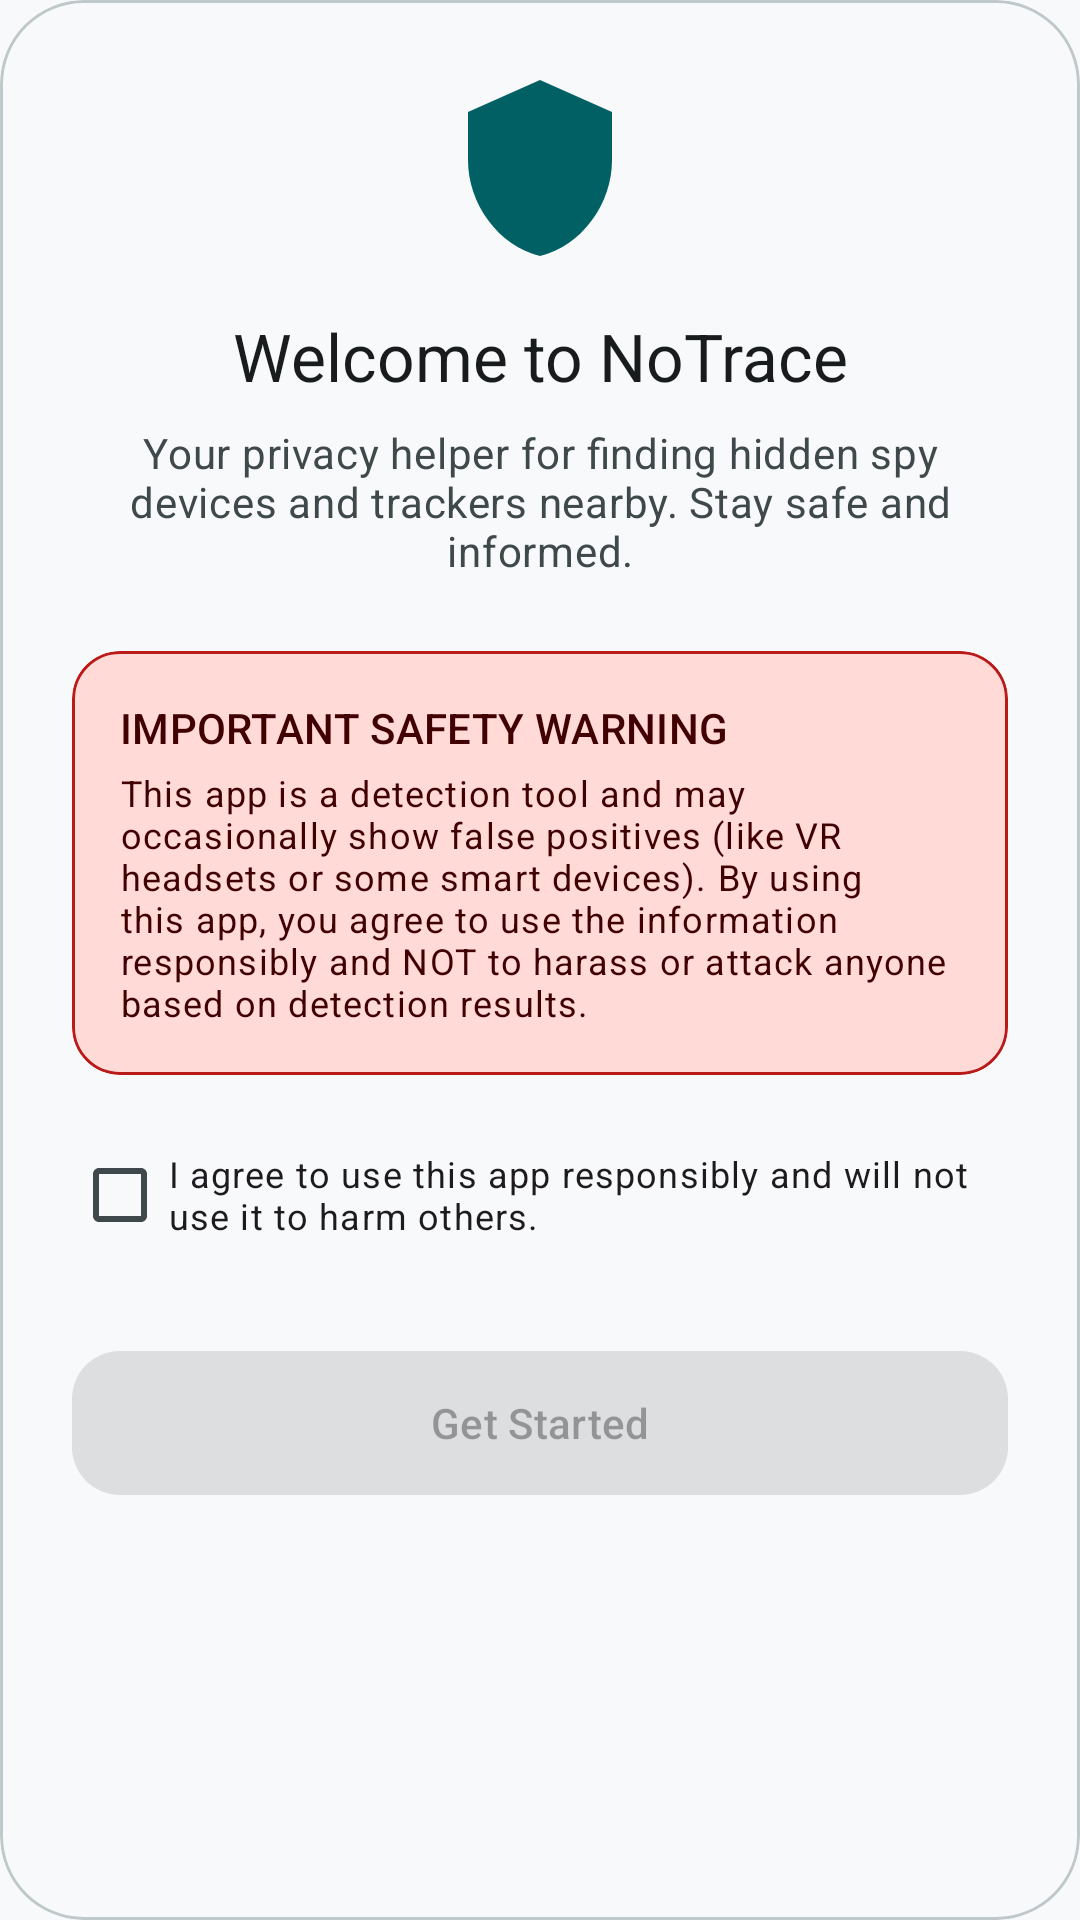

Icon click points for this 1080px x 1920px phone screenshot, format (x,y):
notification shield: (540,168)
